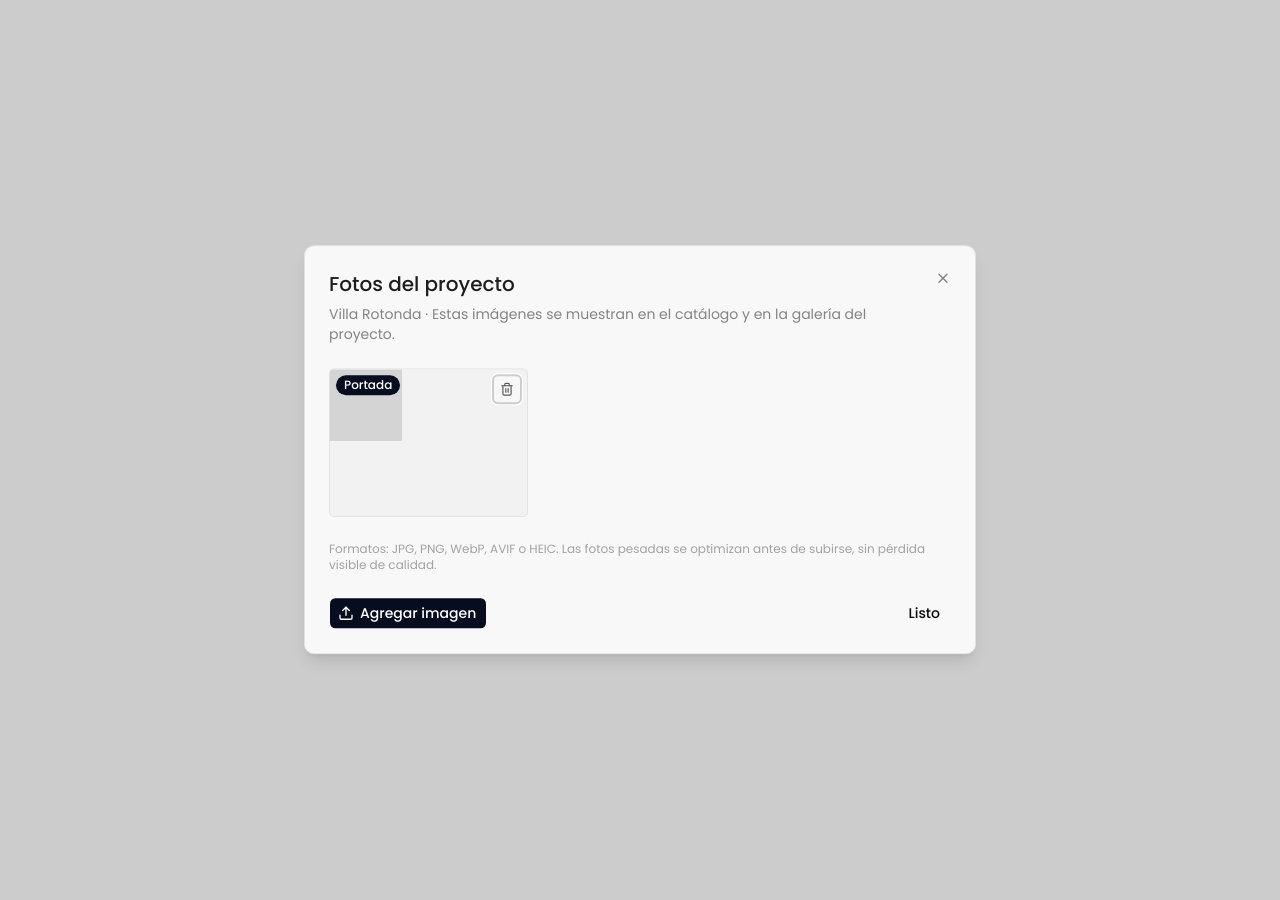
Test case: photos already on the project › reports a removal the server refused, and keeps the photo listed
Click the button named "Quitar esta imagen": [507, 389] box [493,375,521,403]
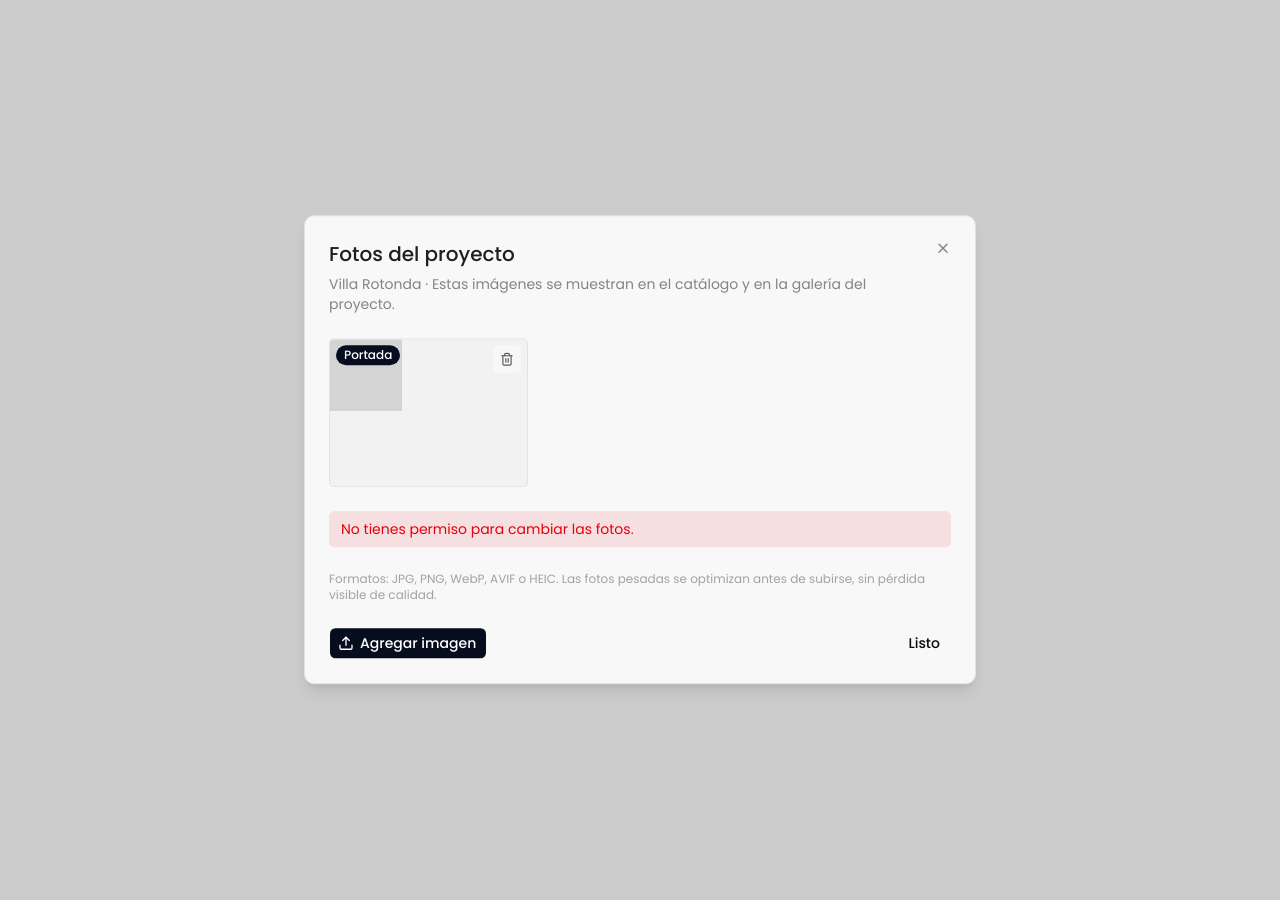
Check: the message reads "No tienes permiso para cambiar las fotos.", box [341,520,634,540]
